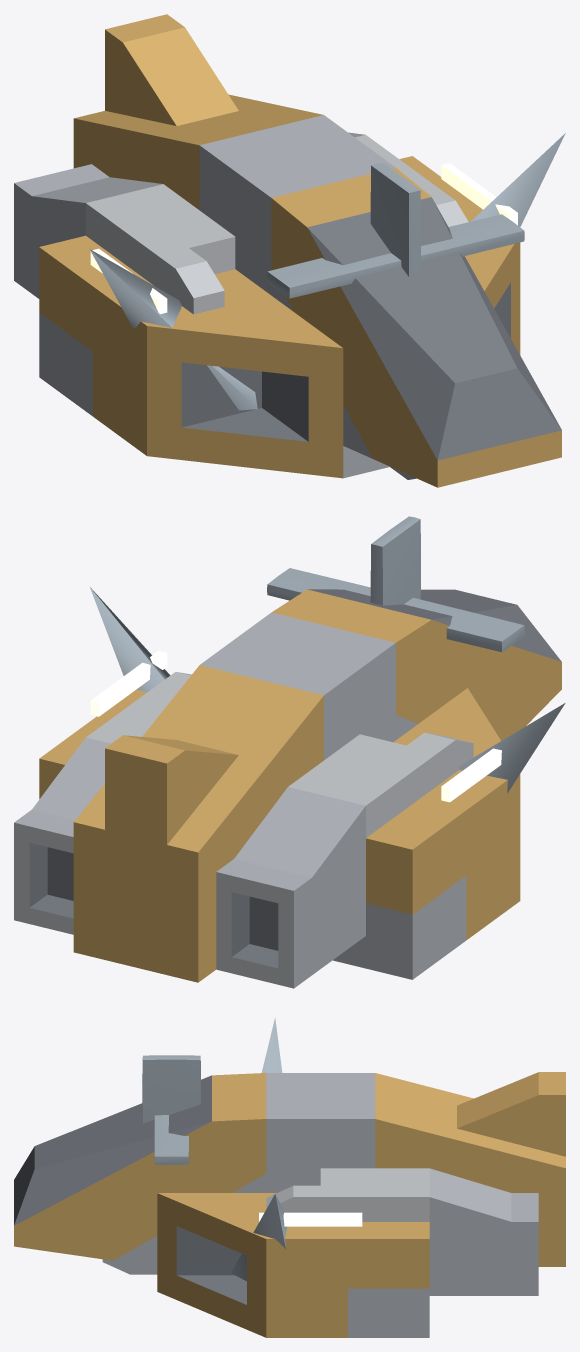
The model's file is npc_racer.glb.
3 renders of one model, top to bottom at view 1: azimuth 30°, elevation 25°; view 2: azimuth 150°, elevation 25°; view 3: azimuth 270°, elevation 25°, orthographic. The views are drawn at different scales.
Parts seen in each view (by area): view 1: npc_racer; view 2: npc_racer; view 3: npc_racer.
Boxes of the visible parts, left/top/right/bottom form: npc_racer: left=14, top=14, right=565, bottom=487; npc_racer: left=14, top=516, right=565, bottom=988; npc_racer: left=14, top=1017, right=565, bottom=1337.
Size of the model in its own units: 1.41 by 0.7907 by 1.87.
